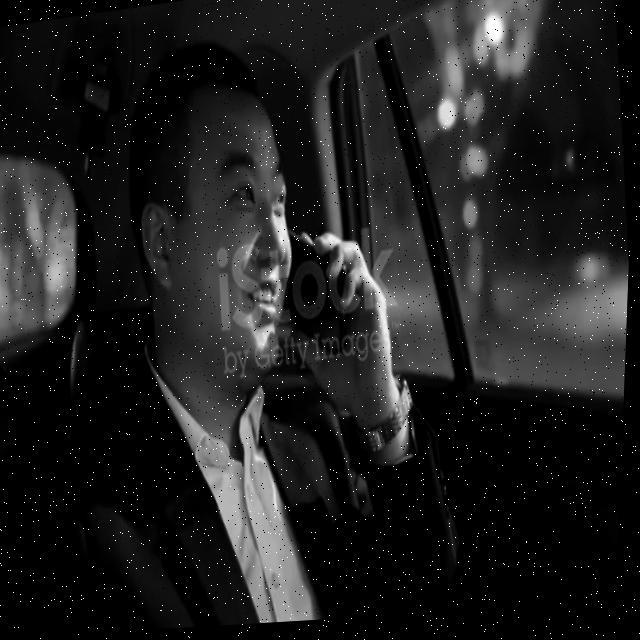PhoneCall: (282, 230, 360, 373)
